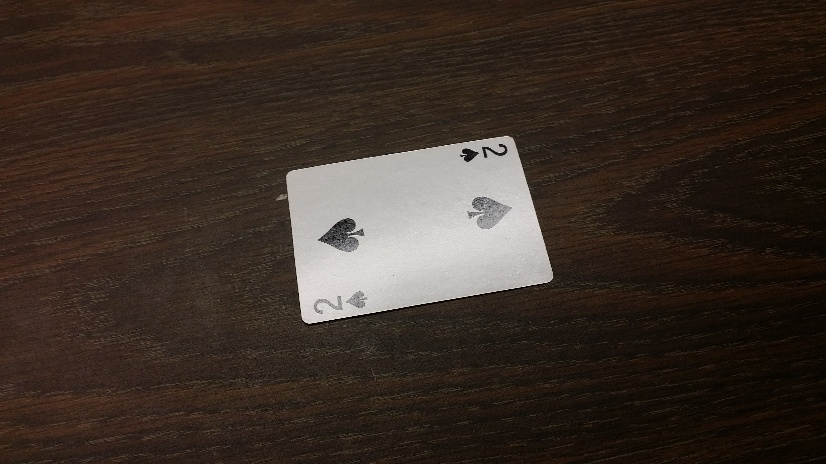S2: (310, 289, 369, 314), (458, 142, 510, 166)
